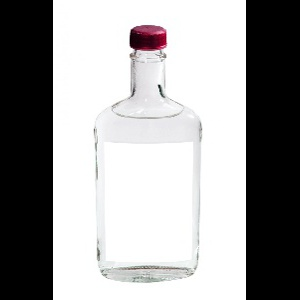emptybottle: (94, 25, 202, 282)
